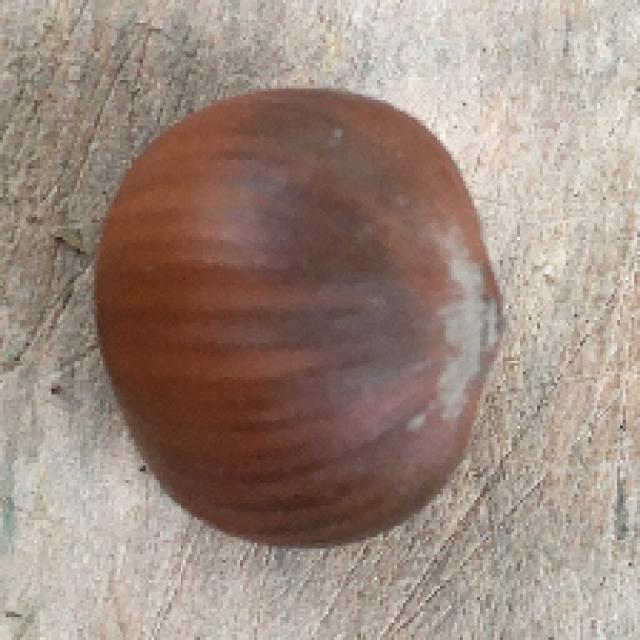qualityHazelnut: (79, 64, 516, 549)
